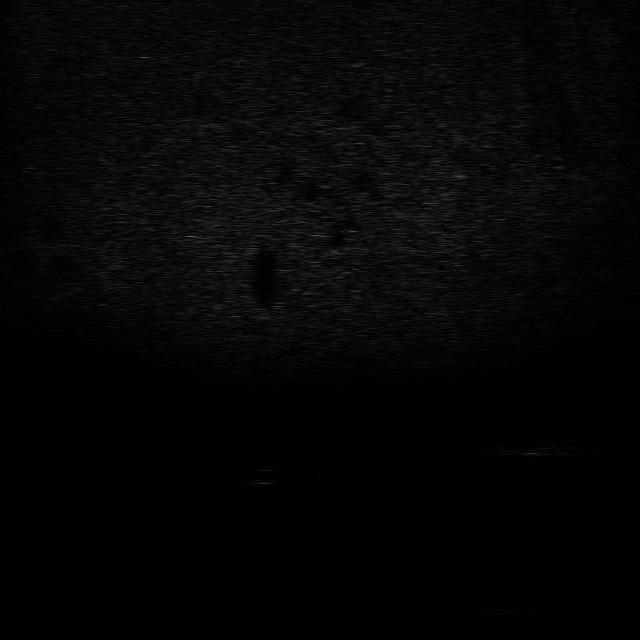ball: (240, 465, 281, 488)
human body: (488, 434, 582, 458)
